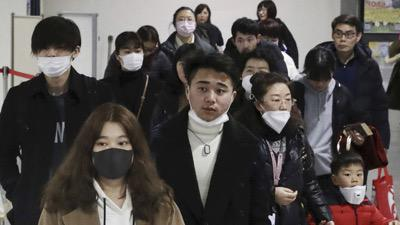mask_weared_incorrect: (187, 77, 231, 121), (261, 91, 291, 125), (337, 167, 364, 194)
with_mask: (90, 132, 137, 182), (35, 41, 73, 80), (239, 63, 270, 96), (118, 44, 144, 72), (175, 14, 196, 39)
without_mask: (331, 27, 358, 52), (234, 34, 258, 55), (307, 75, 332, 91), (140, 41, 157, 59), (195, 9, 209, 25), (256, 5, 268, 20)
